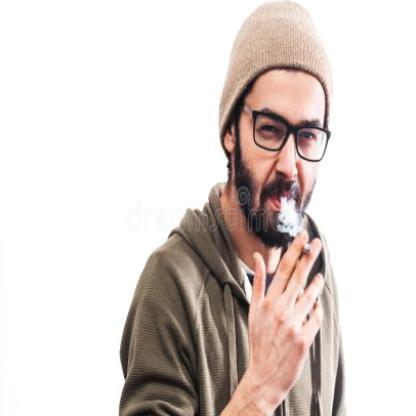person: (118, 0, 354, 415)
smoke: (276, 190, 302, 238)
